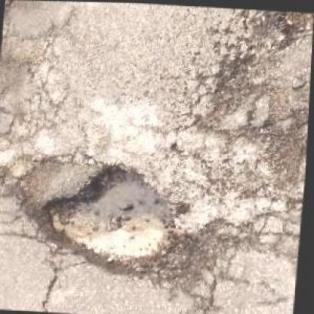Hueco: (27, 154, 199, 282)
